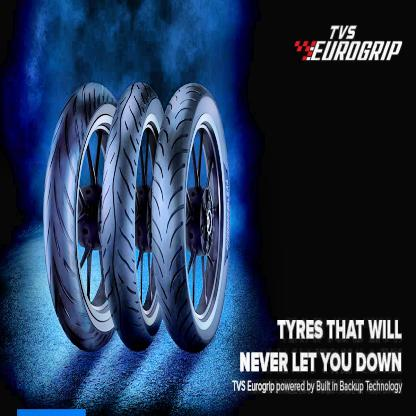TVS Eurogrip: (294, 23, 403, 63)
